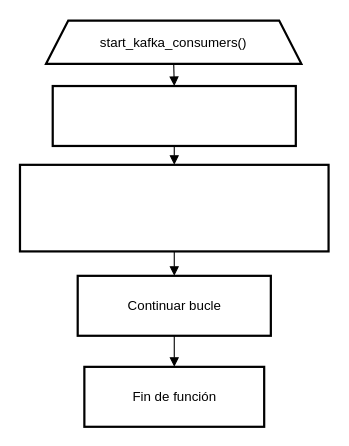
Some shapes in this 349 by 446 pixel diagram are drawn without their labels. Here are the shapes that lost their labels. From the top down, the centre of each, then its label:
(x=173, y=115): Leer networkinfo.json y filtrar nodos que exportan datos
(x=173, y=207): Iniciar hilo kafka_consumer_thread() para cada nodo
